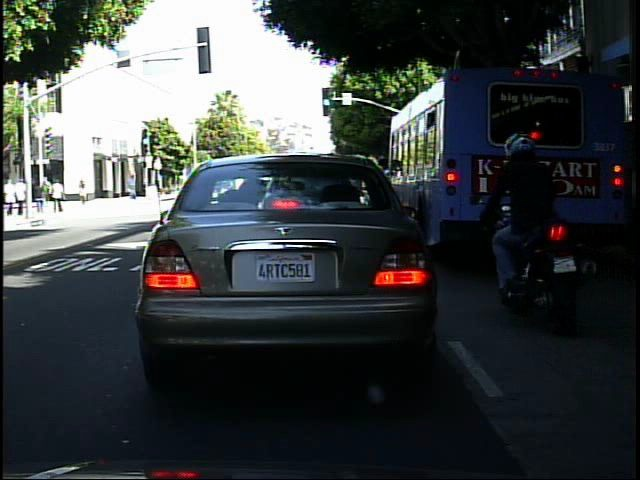person: (480, 126, 576, 314), (52, 176, 69, 216), (14, 176, 29, 218), (123, 171, 141, 205), (39, 175, 56, 210), (3, 174, 16, 218), (77, 175, 92, 210), (34, 180, 47, 213)
